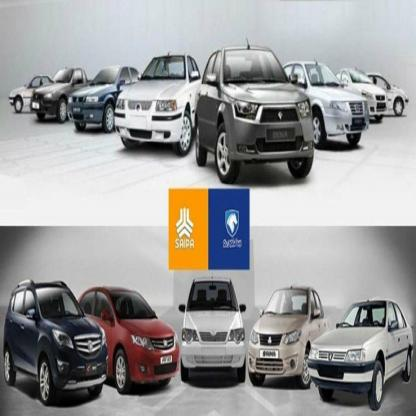Car: (207, 48, 311, 195), (0, 272, 108, 404), (313, 287, 416, 400), (87, 270, 180, 387), (271, 50, 360, 155), (247, 268, 319, 392), (180, 260, 249, 385), (121, 46, 196, 155), (63, 67, 136, 153), (23, 63, 87, 119), (332, 62, 387, 127), (370, 73, 406, 132), (9, 66, 46, 115)
